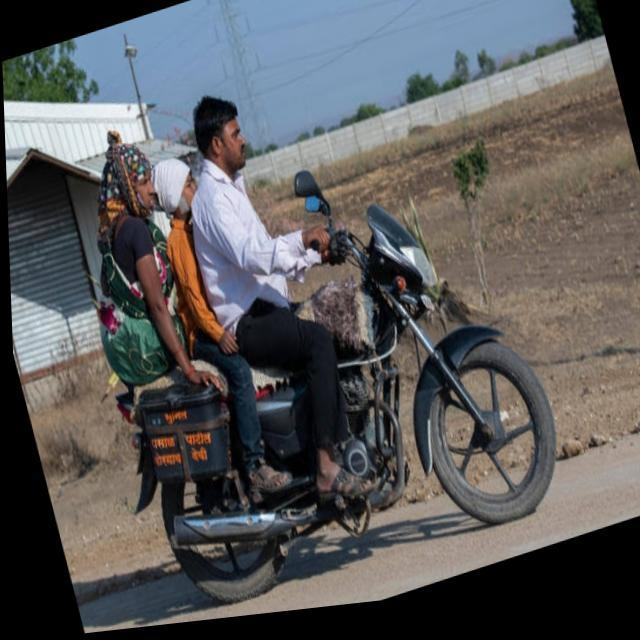Nonhelmet: (186, 83, 250, 177)
